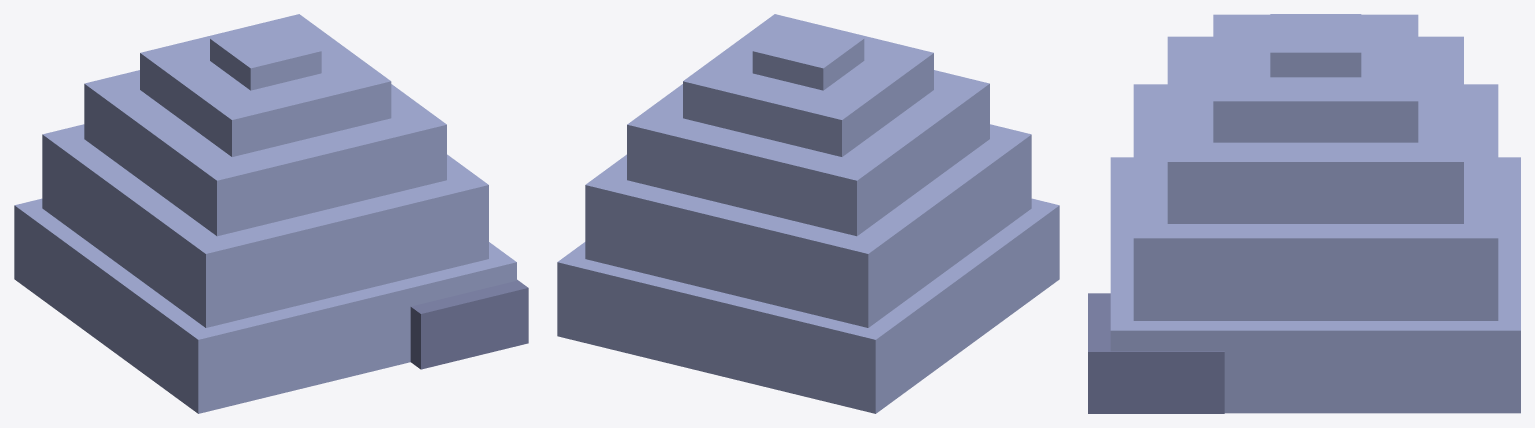
File: Boulder.glb
3 views of the same model, side by side, from view 1: azimuth 30°, elevation 25°; view 2: azimuth 150°, elevation 25°; view 3: azimuth 270°, elevation 25° (orthographic). The views are drawn at different scales.
Visible parts, largest first — view 1: Boulder; view 2: Boulder; view 3: Boulder.
Part boxes in pixels (left/top/right/bottom): Boulder: left=14, top=14, right=528, bottom=413; Boulder: left=557, top=14, right=1059, bottom=413; Boulder: left=1088, top=14, right=1520, bottom=413.
Bounding box in the file's own units: 9.04 × 7.1 × 9.5.
Materials: 1 (1 with a texture image).
